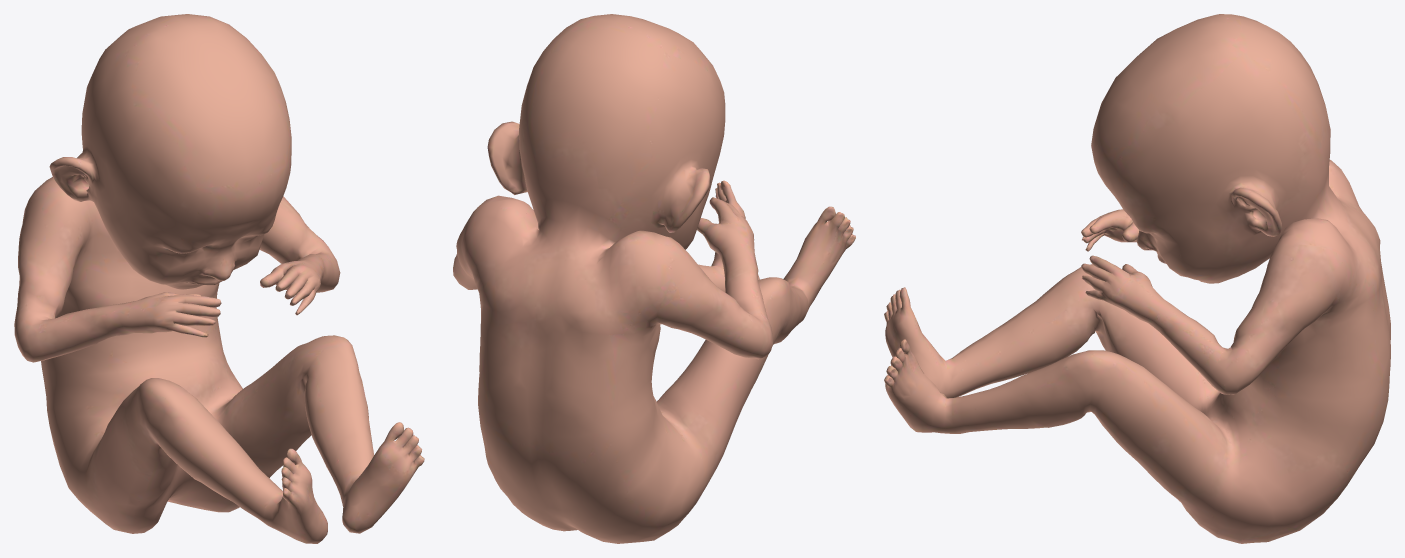
File: pb-w32.2e7bffe0.glb
The picture shows the model from 3 angles, left to right: view 1: azimuth 30°, elevation 25°; view 2: azimuth 150°, elevation 25°; view 3: azimuth 270°, elevation 25°; orthographic projection.
Parts seen in each view (by area): view 1: Baby; view 2: Baby; view 3: Baby.
Boxes of the visible parts, x1=… form: Baby: x1=14, y1=14, x2=424, y2=543; Baby: x1=453, y1=14, x2=855, y2=543; Baby: x1=884, y1=14, x2=1390, y2=543.
Bounding box in the file's own units: 0.2037 × 0.3098 × 0.2864.
Materials: 1 (1 with a texture image).
